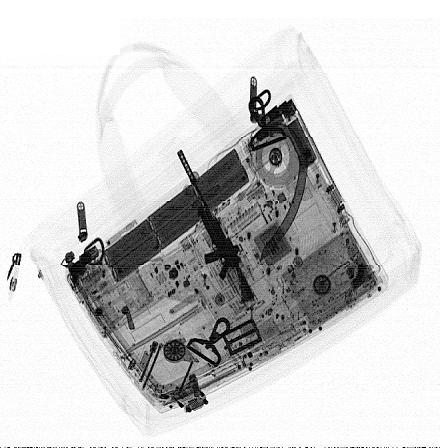Gun: (177, 149, 255, 303)
